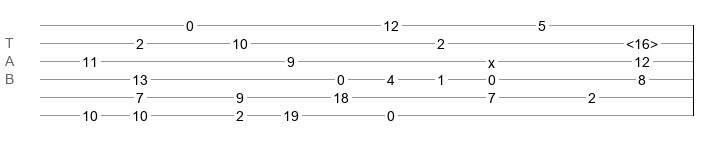0: (186, 18, 194, 28), (337, 72, 345, 82), (387, 108, 395, 118), (488, 72, 496, 82)
1: (437, 72, 445, 82)
10: (82, 108, 98, 118), (132, 108, 148, 118), (232, 36, 248, 46)
11: (82, 54, 98, 64)
12: (383, 18, 399, 28), (634, 54, 650, 64)
13: (132, 72, 148, 82)
18: (333, 90, 349, 100)
19: (283, 108, 299, 118)
2: (136, 36, 144, 46), (236, 108, 244, 118), (437, 36, 445, 46), (588, 90, 596, 100)
4: (387, 72, 395, 82)
5: (538, 18, 546, 28)
7: (136, 90, 144, 100), (488, 90, 496, 100)
8: (638, 72, 646, 82)
9: (236, 90, 244, 100), (287, 54, 295, 64)
harmonic: (626, 36, 658, 46)
x: (488, 55, 495, 63)
